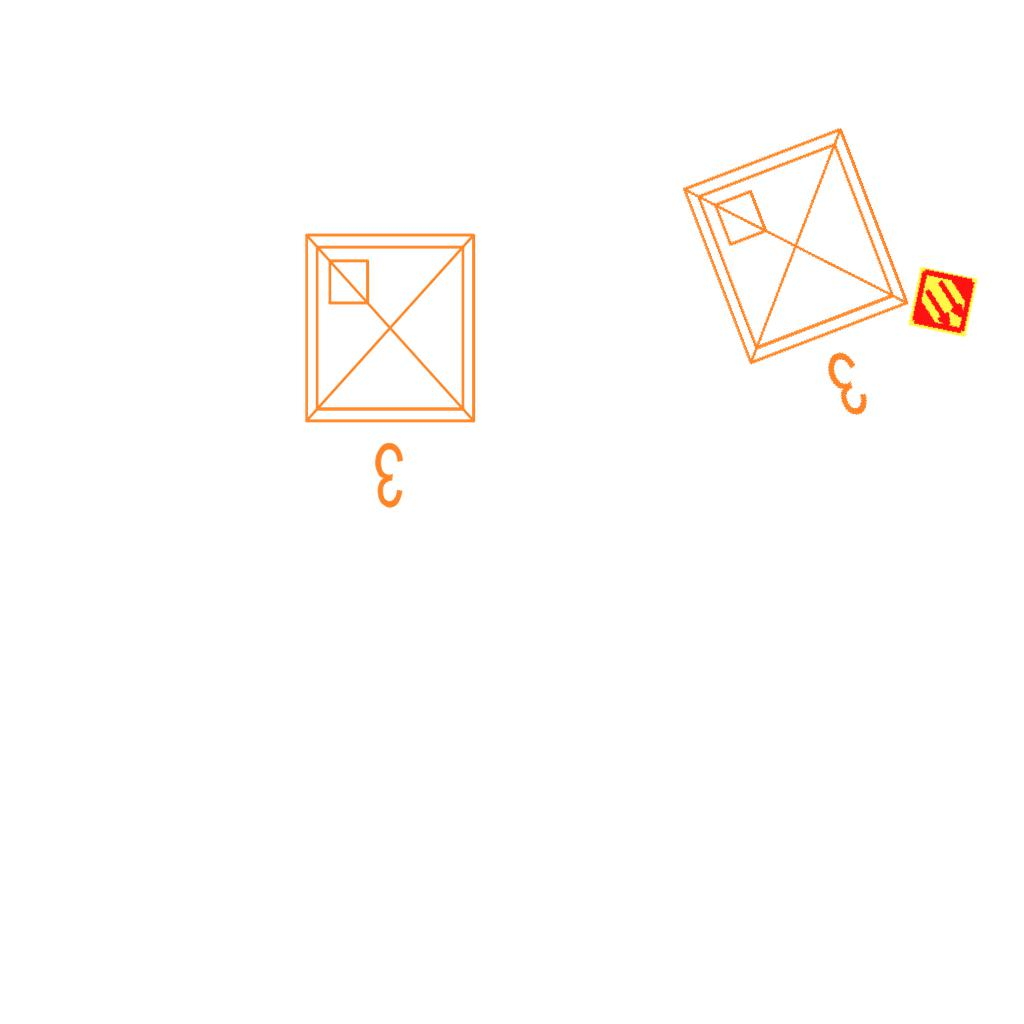ASR_Ansaugrauchmelder: (906, 265, 980, 339)
Einbaudownlights_LED_Konferenzraeume: (663, 105, 965, 461), (290, 219, 498, 519)
